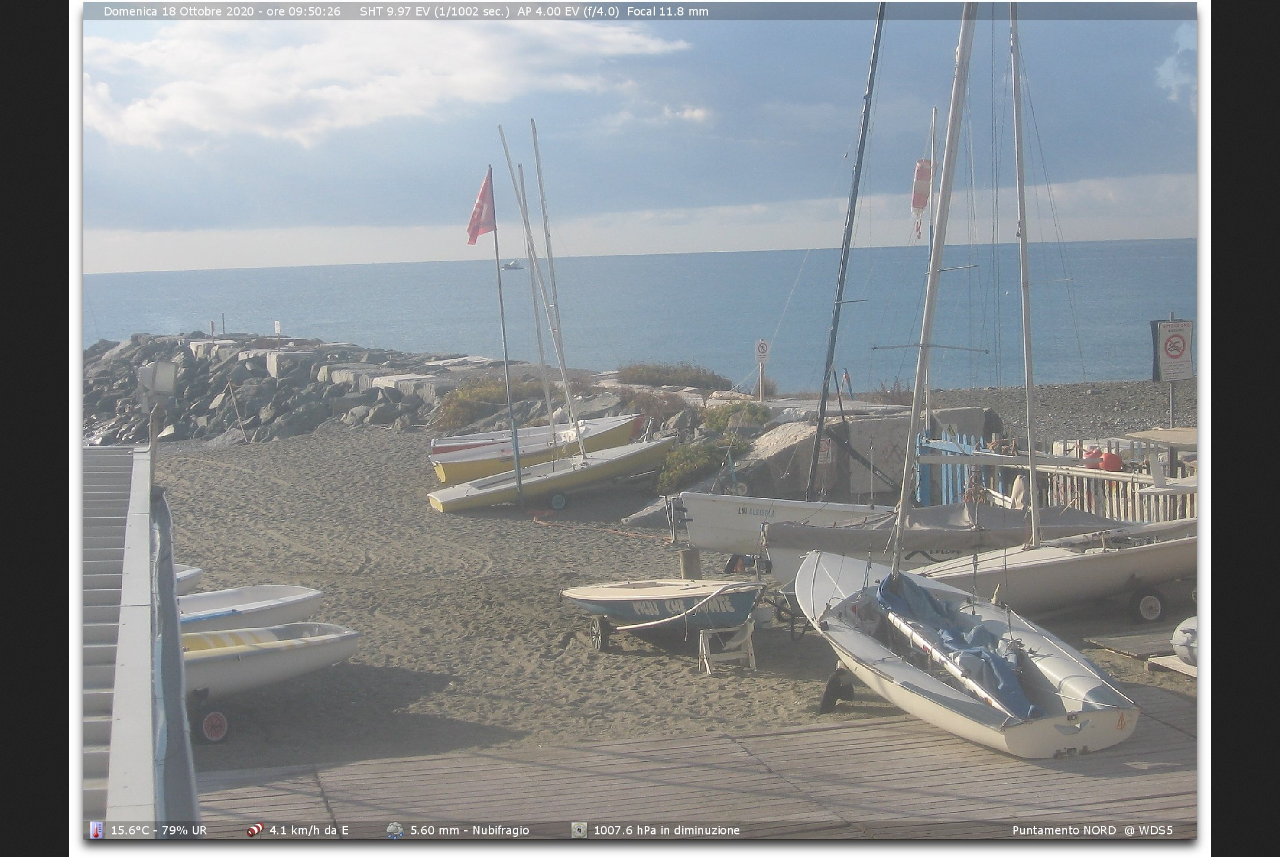no: (460, 152, 500, 251)
